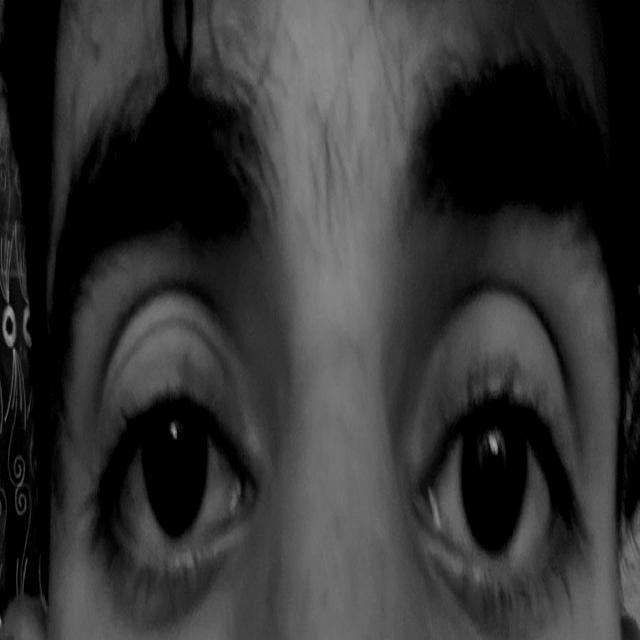real: (60, 184, 608, 620)
